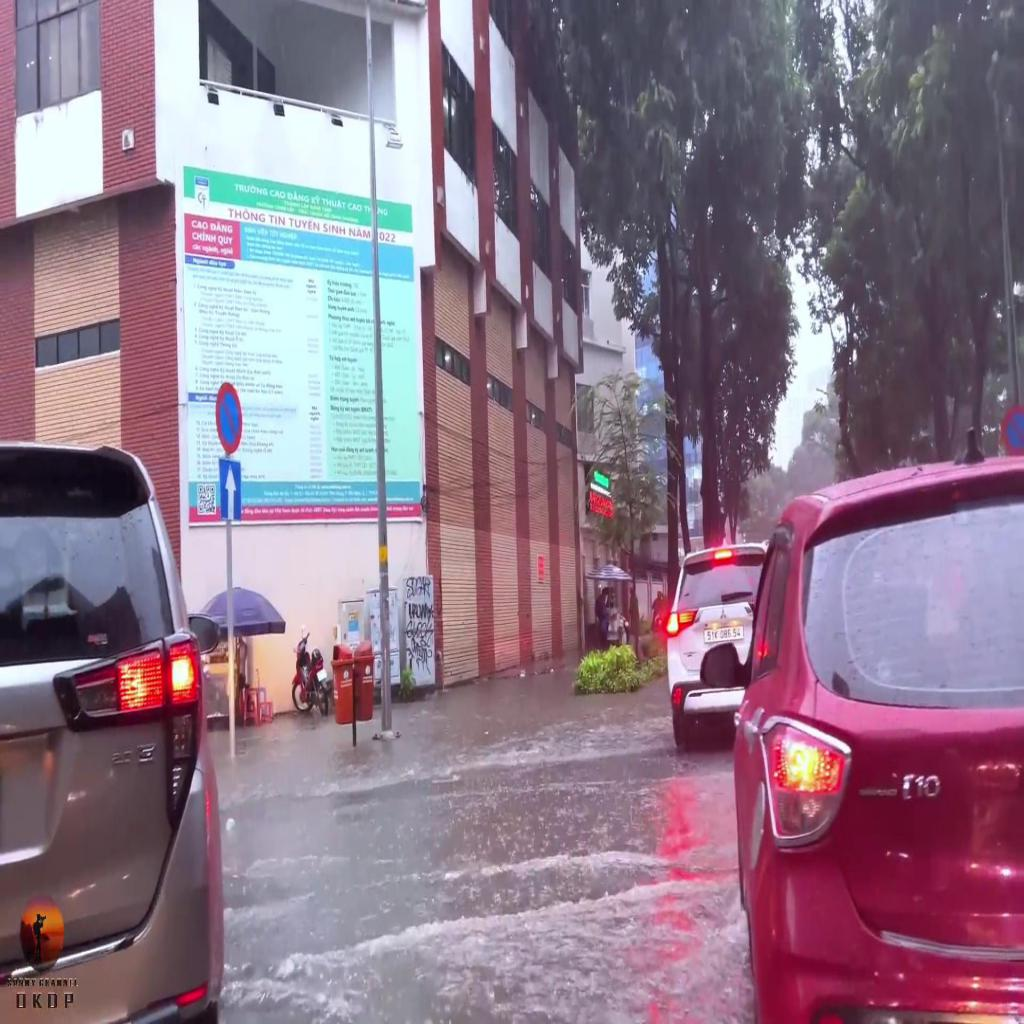cam_do_xe: (216, 382, 242, 455), (1002, 404, 1024, 458)
duong_mot_chieu: (220, 458, 240, 521)
